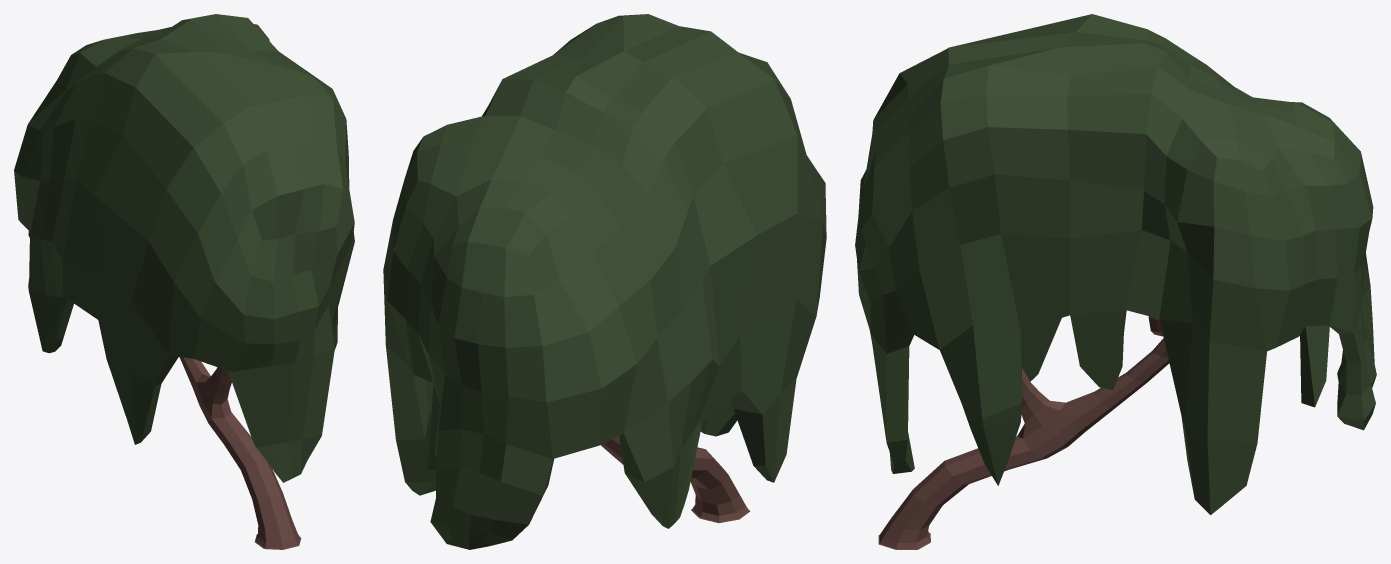
Rendered from q-willow-mbrublp9zd.glb.
The picture shows the model from 3 angles, left to right: view 1: azimuth 30°, elevation 25°; view 2: azimuth 150°, elevation 25°; view 3: azimuth 270°, elevation 25°; orthographic projection. The views are drawn at different scales.
Parts seen in each view (by area): view 1: Willow_2; view 2: Willow_2; view 3: Willow_2.
Boxes of the visible parts, left/top/right/bottom form: Willow_2: left=14, top=14, right=354, bottom=549; Willow_2: left=383, top=14, right=826, bottom=549; Willow_2: left=855, top=14, right=1376, bottom=549.
Bounding box in the file's own units: 1.95 × 3.32 × 3.11.
